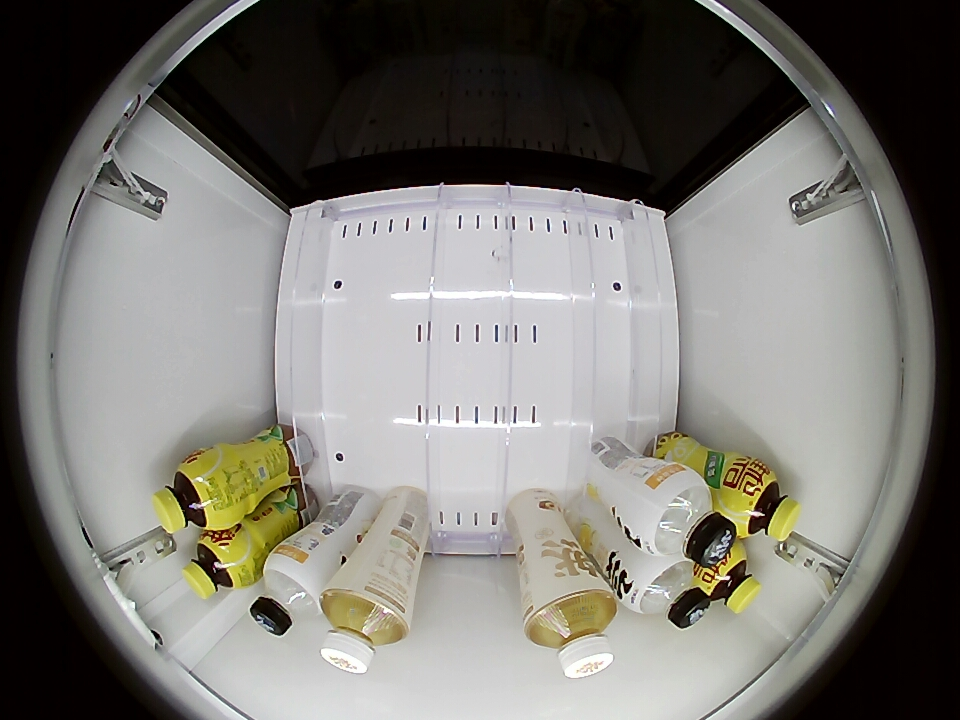rancha-2: (523, 581, 618, 680), (321, 584, 410, 676)
weitaningmeng-bottle: (152, 453, 232, 533), (727, 465, 801, 542), (182, 528, 254, 600), (697, 543, 762, 615)
yuanqishui: (627, 469, 736, 565), (250, 549, 329, 636), (620, 552, 709, 628)
